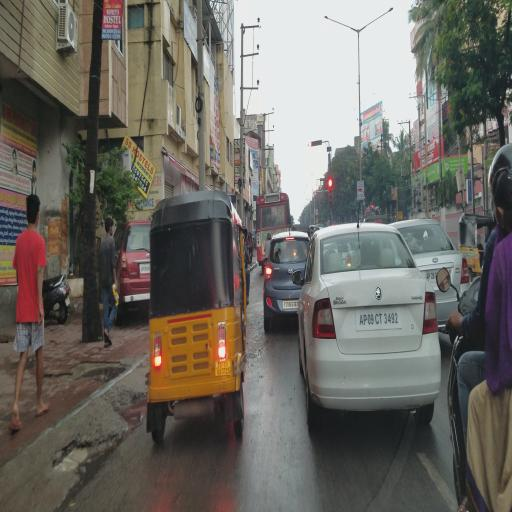street_light_0: (314, 7, 358, 37), (356, 6, 399, 36)
